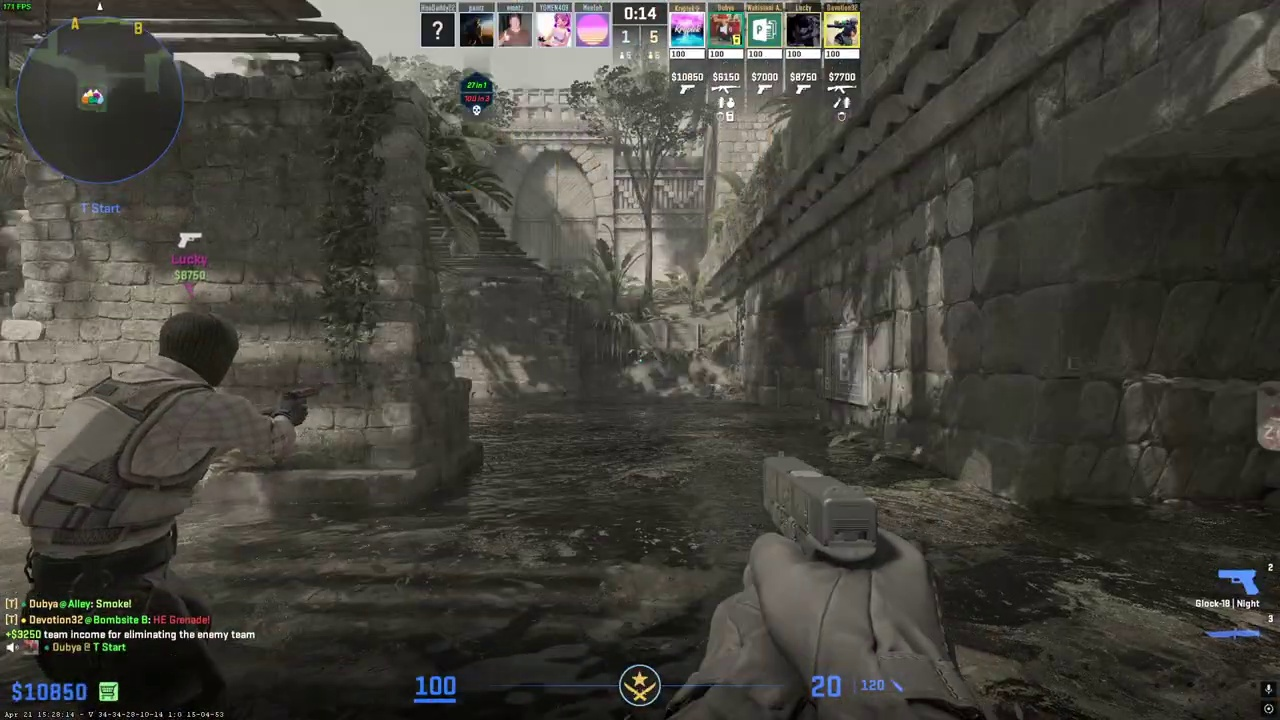Terrorist: (16, 312, 258, 720)
